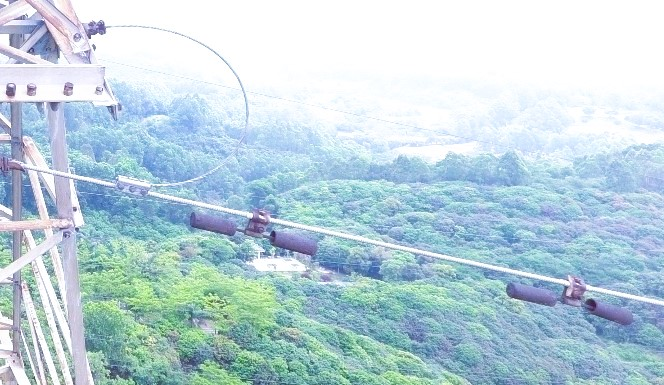Shockproof hammer: (184, 198, 326, 263), (503, 268, 639, 329)
